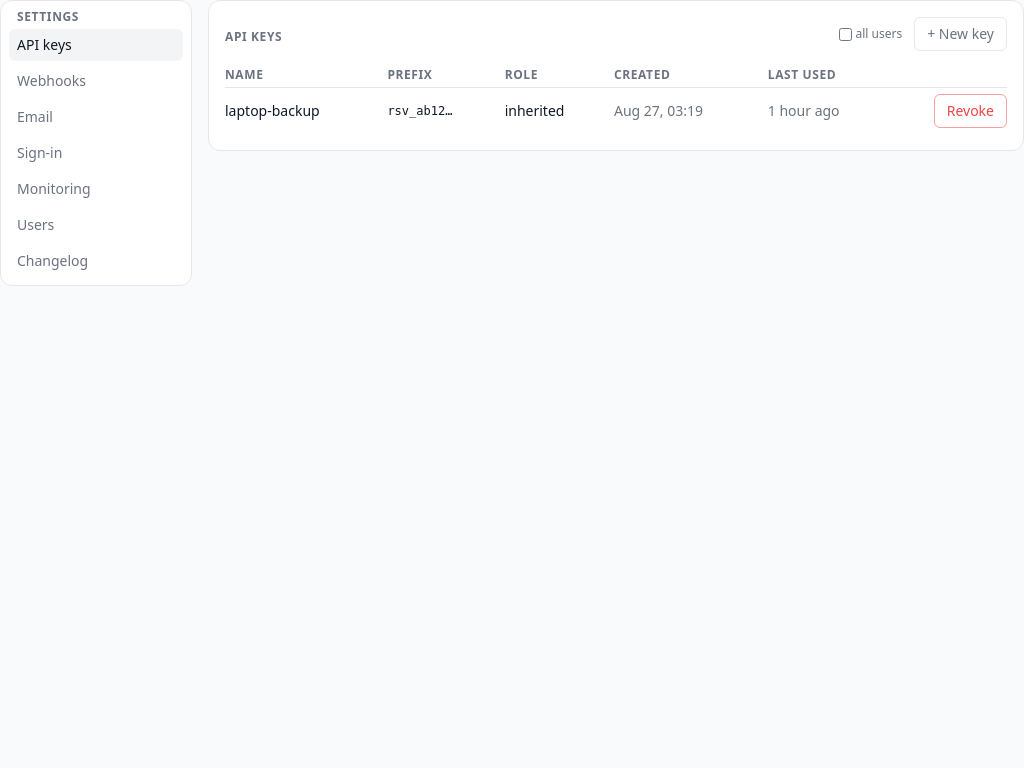
Test: API keys (AC-012) › creates a key, reveals it once, and revokes
expect the number of rows with test id "api-key-row" is 1: met, box [225,88,1007,134]
Click the button "+ New key" at (961, 34), box [914,17,1007,51]
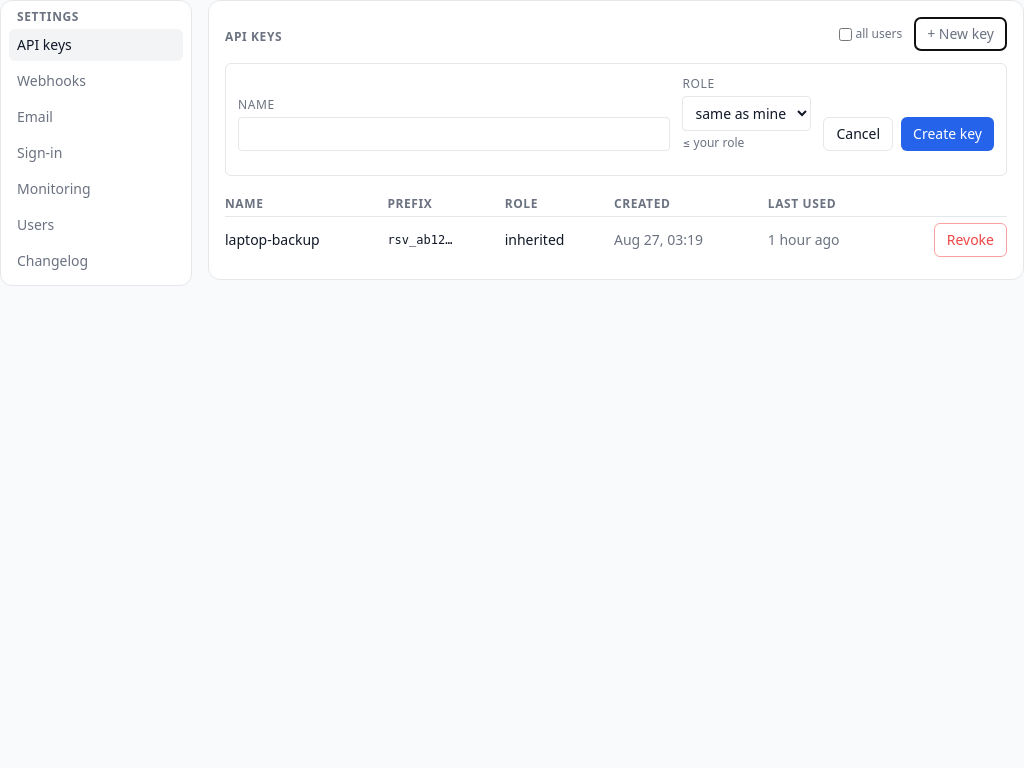
Type "nas-key" into the field labelled "Name" at (454, 134), box [238,117,670,151]
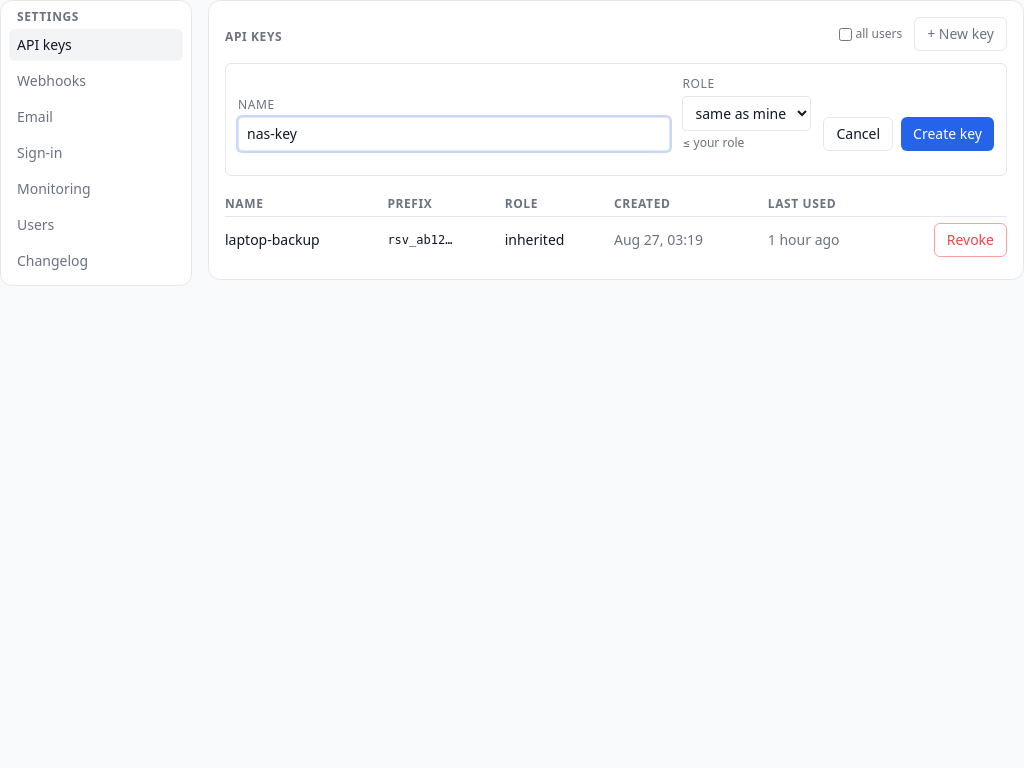
Select "viewer" in the dropdown named "Role override" at (747, 114), box [682,96,812,131]
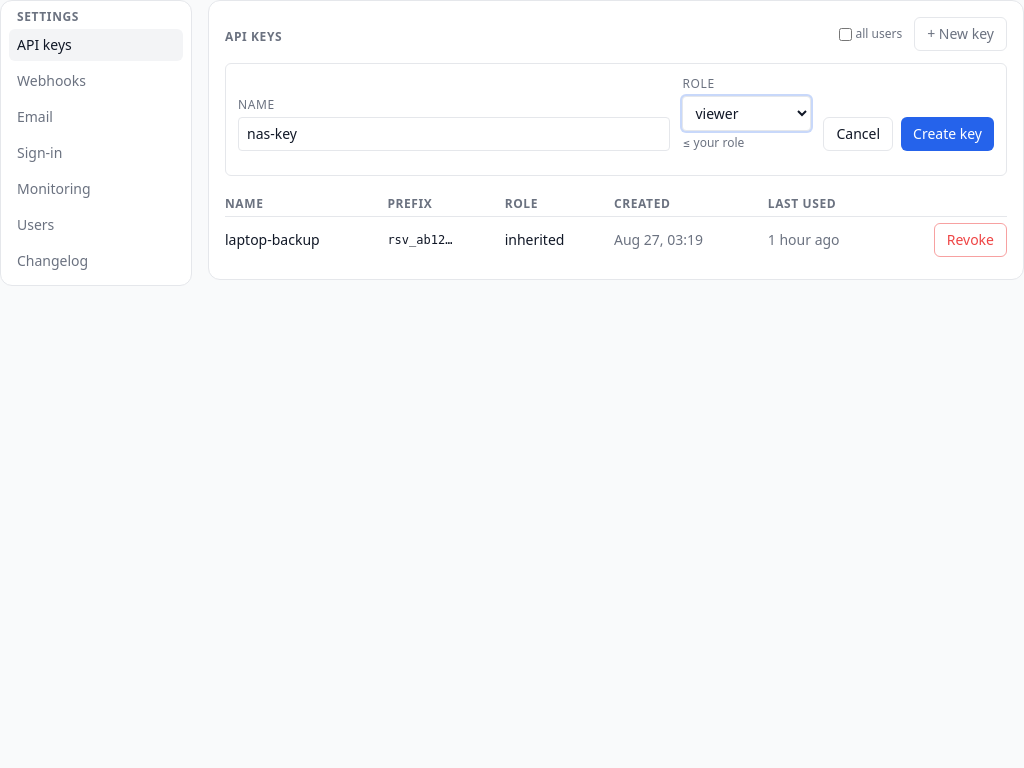
Click the button "Create key" at (948, 134), box [901,117,994,151]
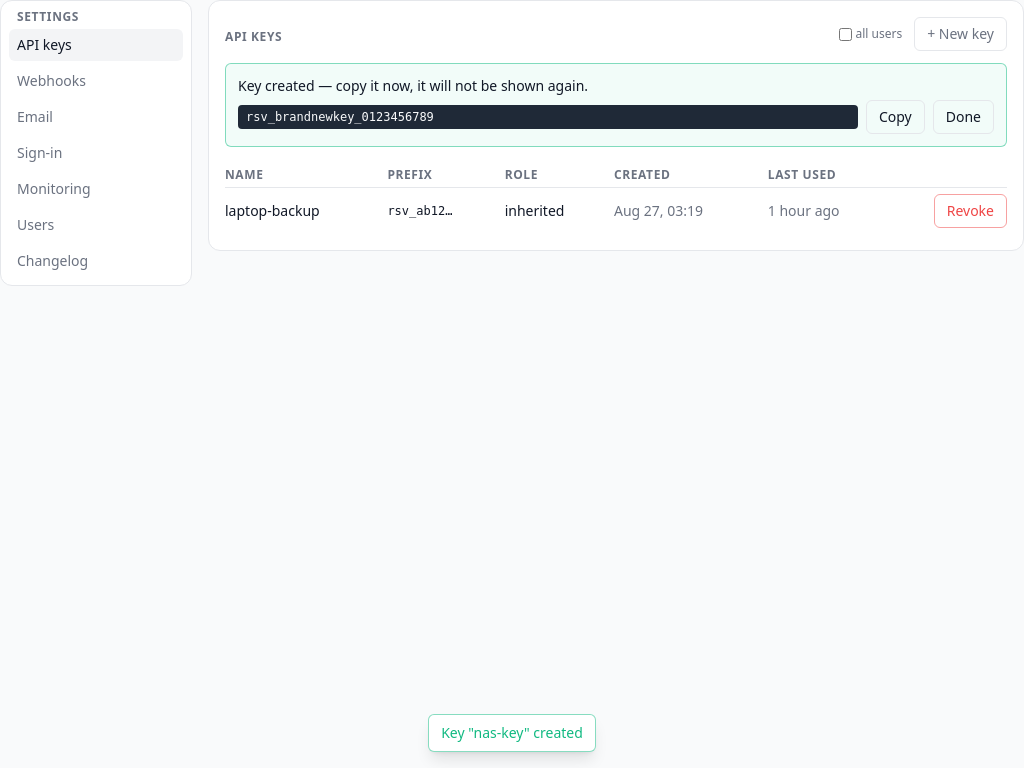
expect the element with test id "api-key-created" shows "rsv_brandnewkey_0123456789": met, box [246,110,434,124]
expect the message with test id "toast" reads "Key \"nas-key\" created": met, box [441,723,583,742]
Click the button "Revoke" at (970, 211), box [934,194,1007,228]
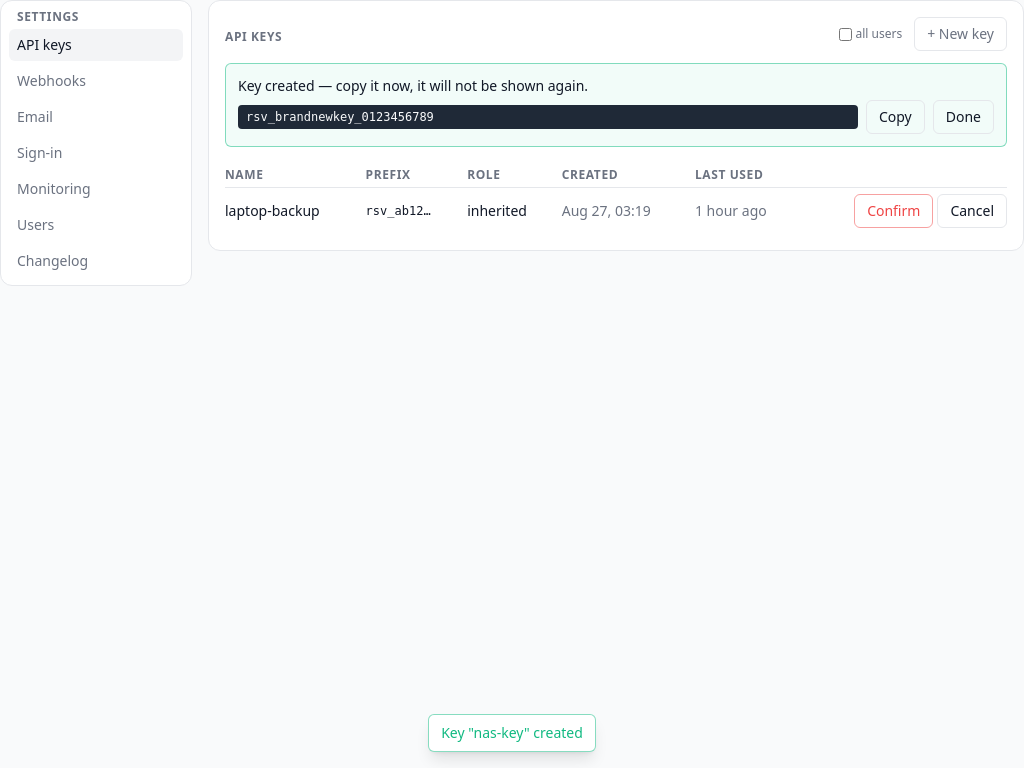
Click the button "Confirm" at (894, 211), box [854,194,933,228]
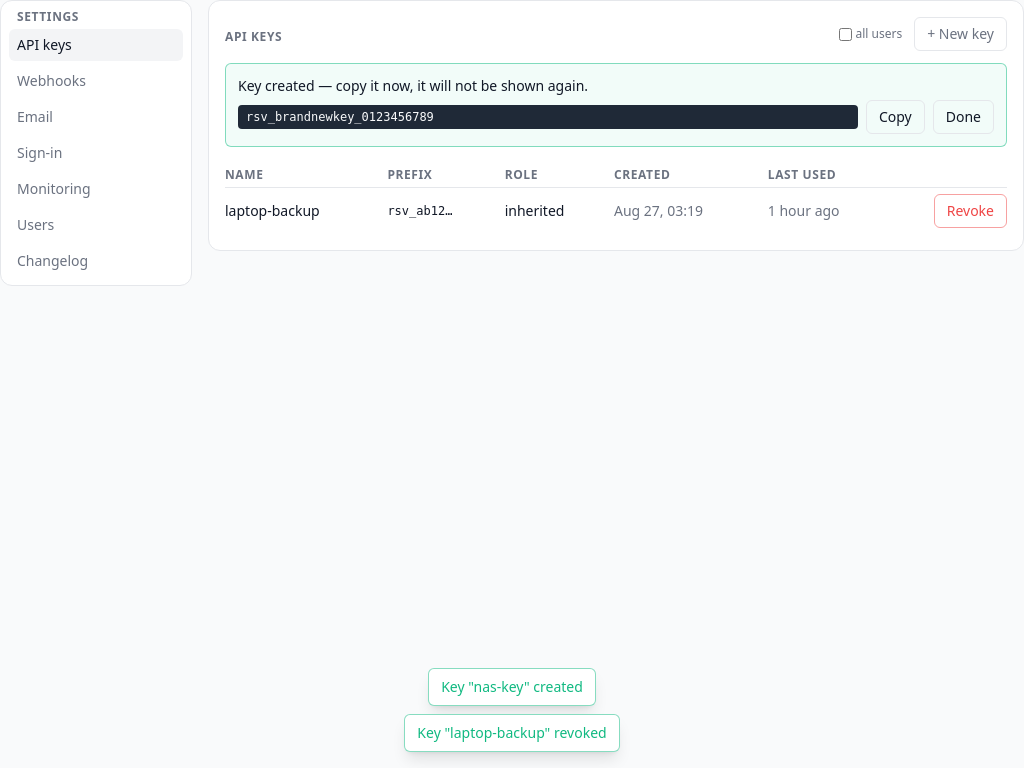
expect the message with test id "toast" shows "revoked": met, box [417,723,607,742]
